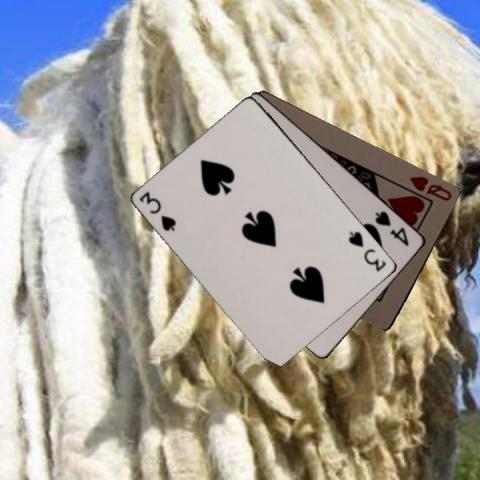3s: (346, 228, 388, 273), (137, 188, 178, 232)
4s: (373, 207, 410, 248)
Qh: (407, 172, 454, 202)
